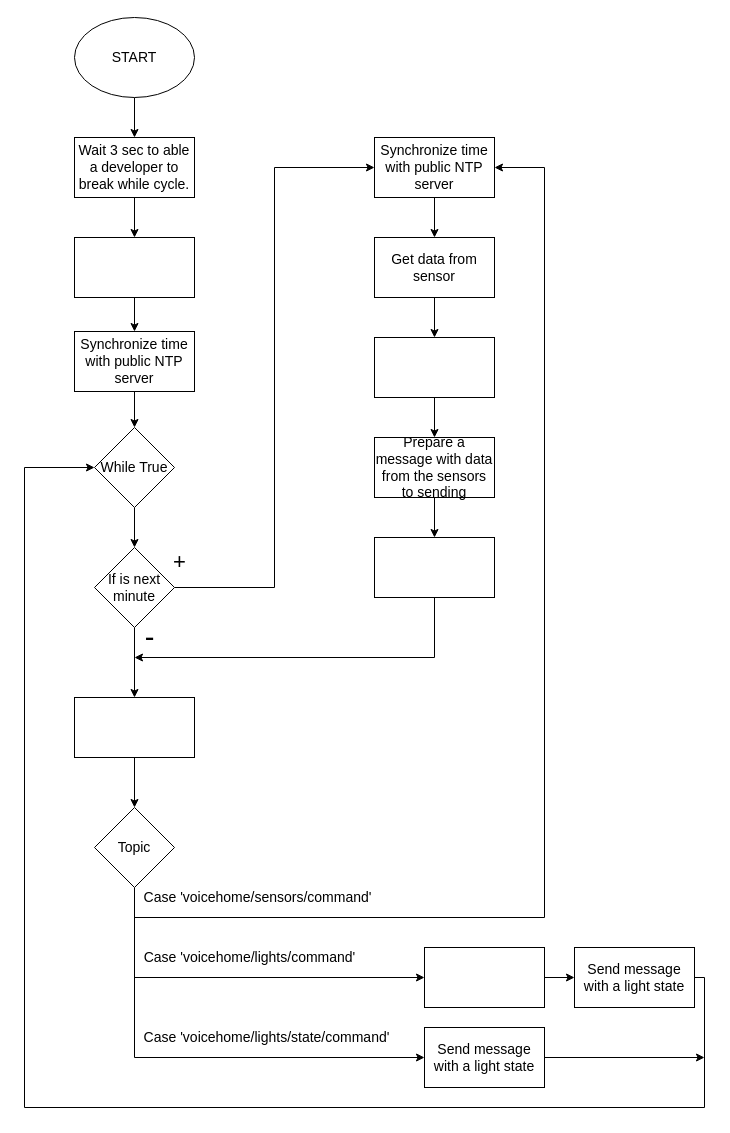
Image size: 730x1133. Some labels were removed from this diagram. Each missing label, with the centre of its shape:
"Connect Wifi" belongs at pixel 134 267.
"Evaluate data if error" belongs at pixel 434 367.
"Send the message with data from the sensors" belongs at pixel 434 567.
"Subscribe topic" belongs at pixel 134 727.
"Turn light on/off" belongs at pixel 484 977.
